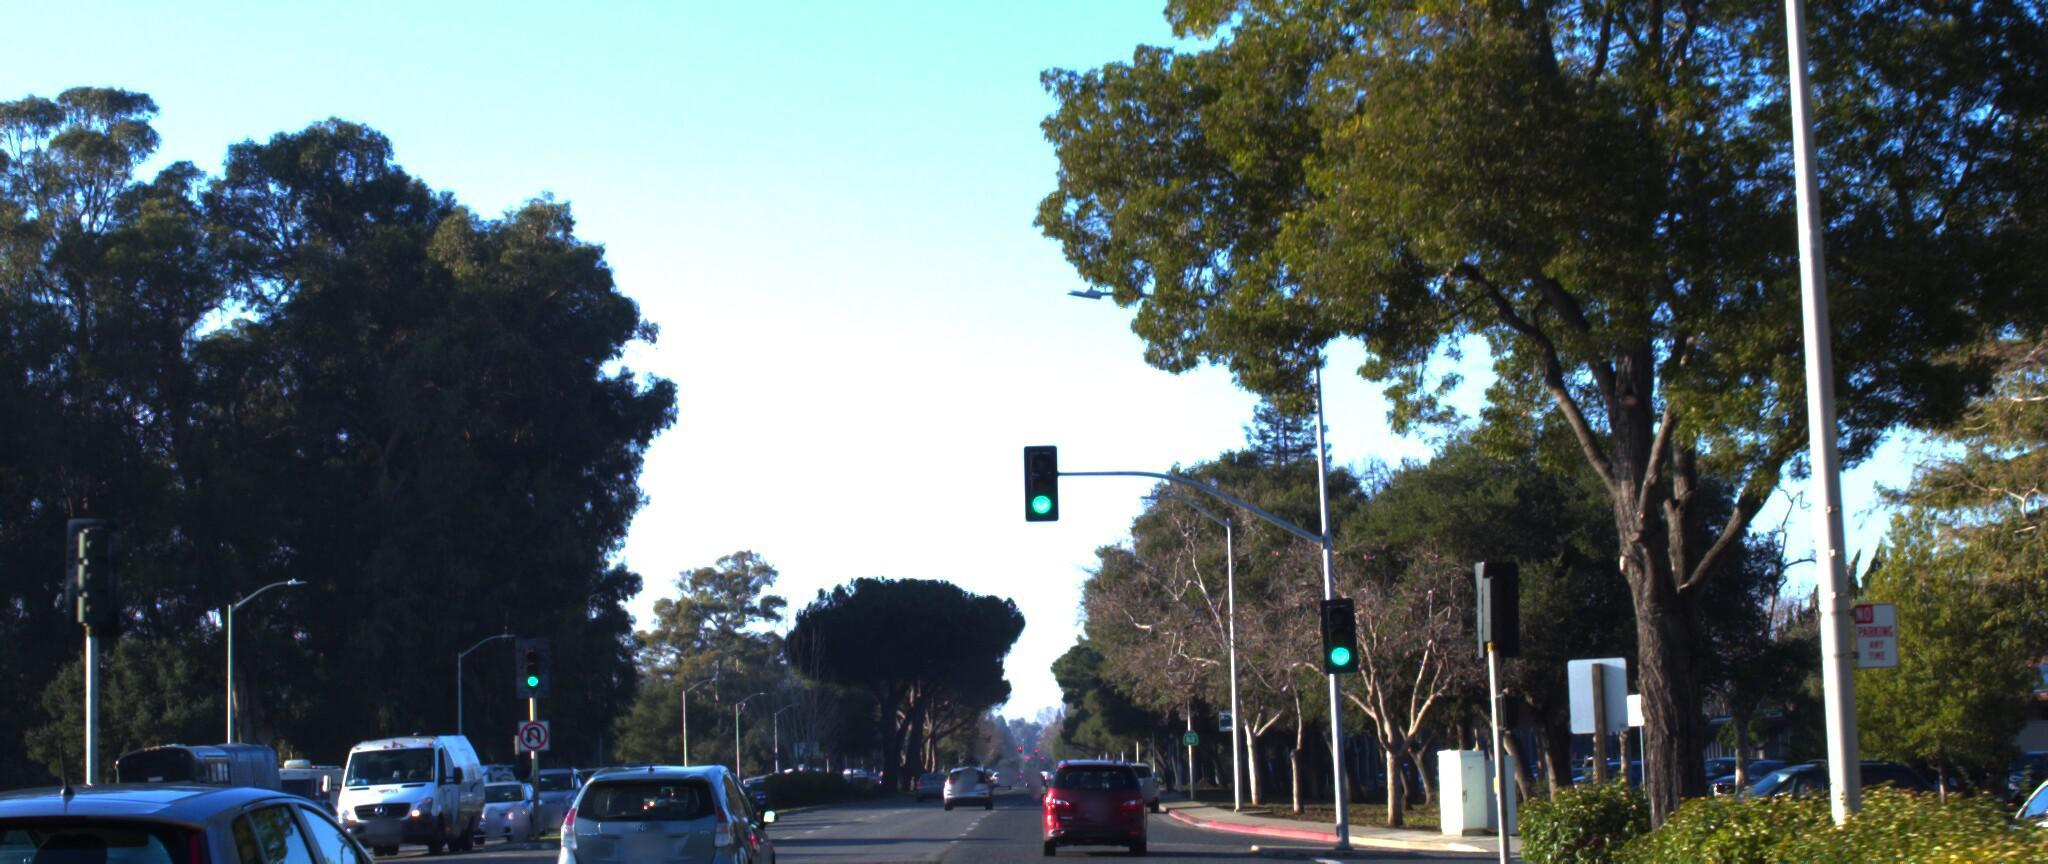car: (0, 750, 468, 864), (543, 735, 775, 864), (0, 764, 287, 864), (1929, 733, 2048, 864), (1031, 744, 1145, 842)
other_vehicle: (310, 713, 483, 851)
